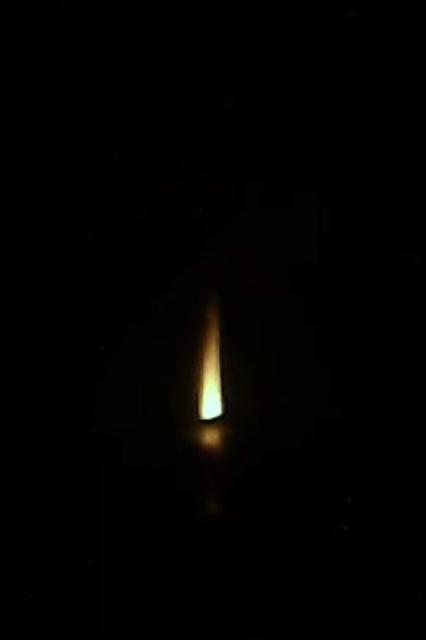burner flame: (190, 309, 234, 421)
